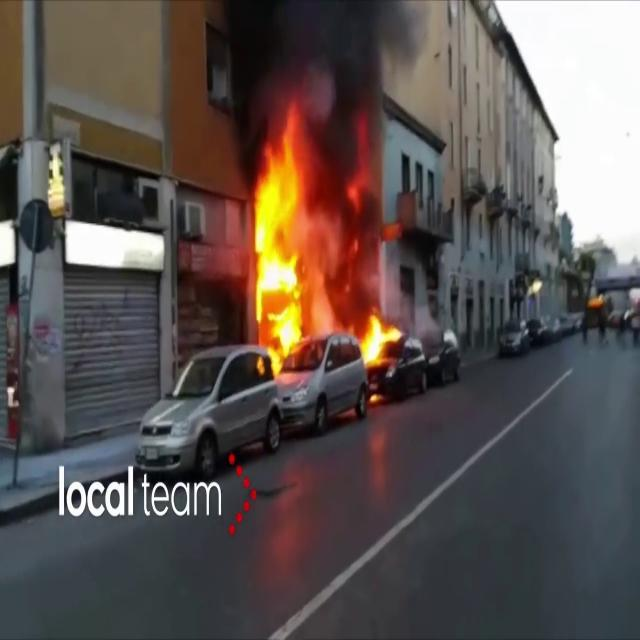Fire: (241, 107, 341, 374), (356, 303, 402, 370)
Smoke: (223, 1, 411, 160)
